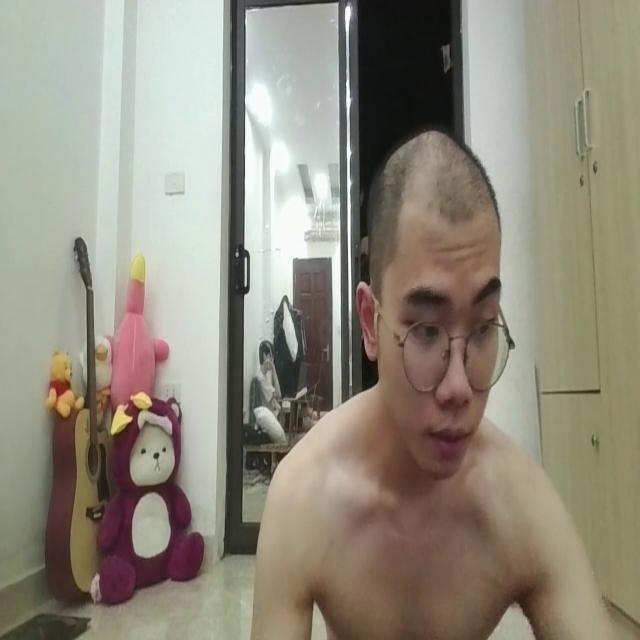student: (229, 110, 624, 640), (254, 298, 286, 457)
